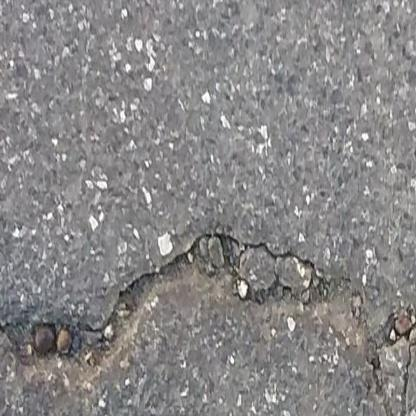Cracks: (0, 224, 337, 370), (365, 293, 416, 416)
